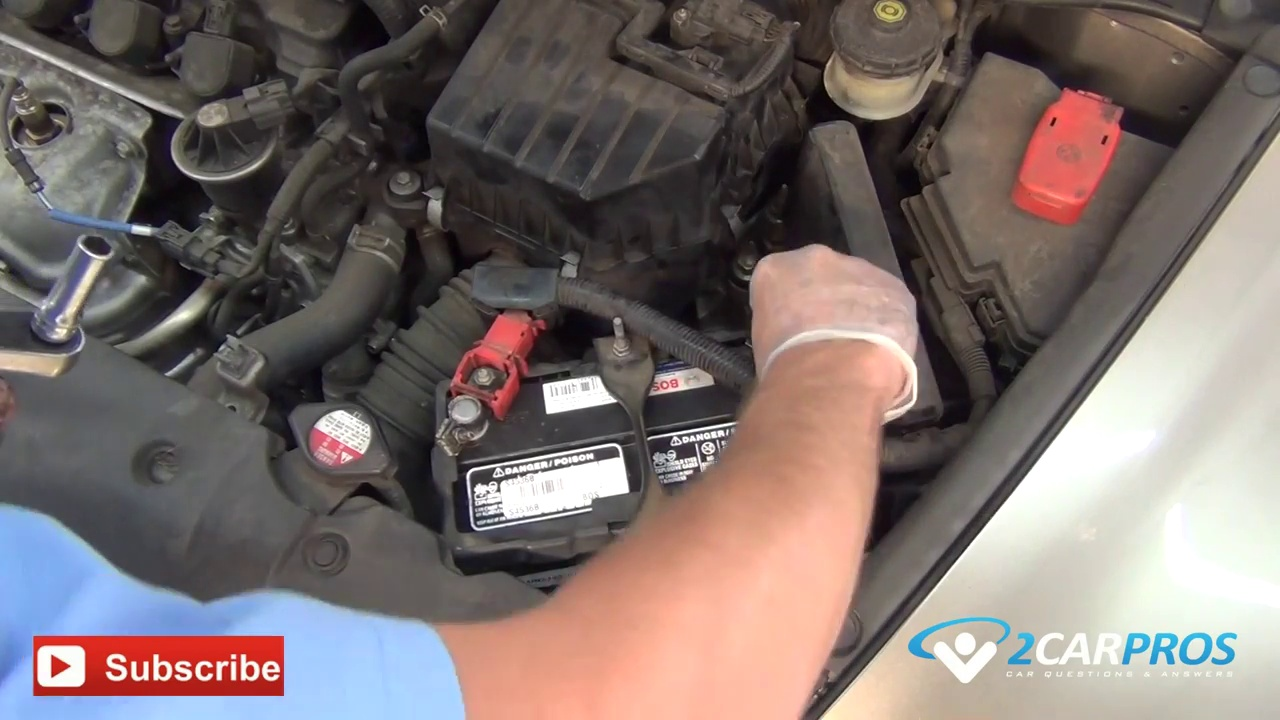battery: (423, 314, 786, 546)
pos_connected: (431, 299, 563, 467)
